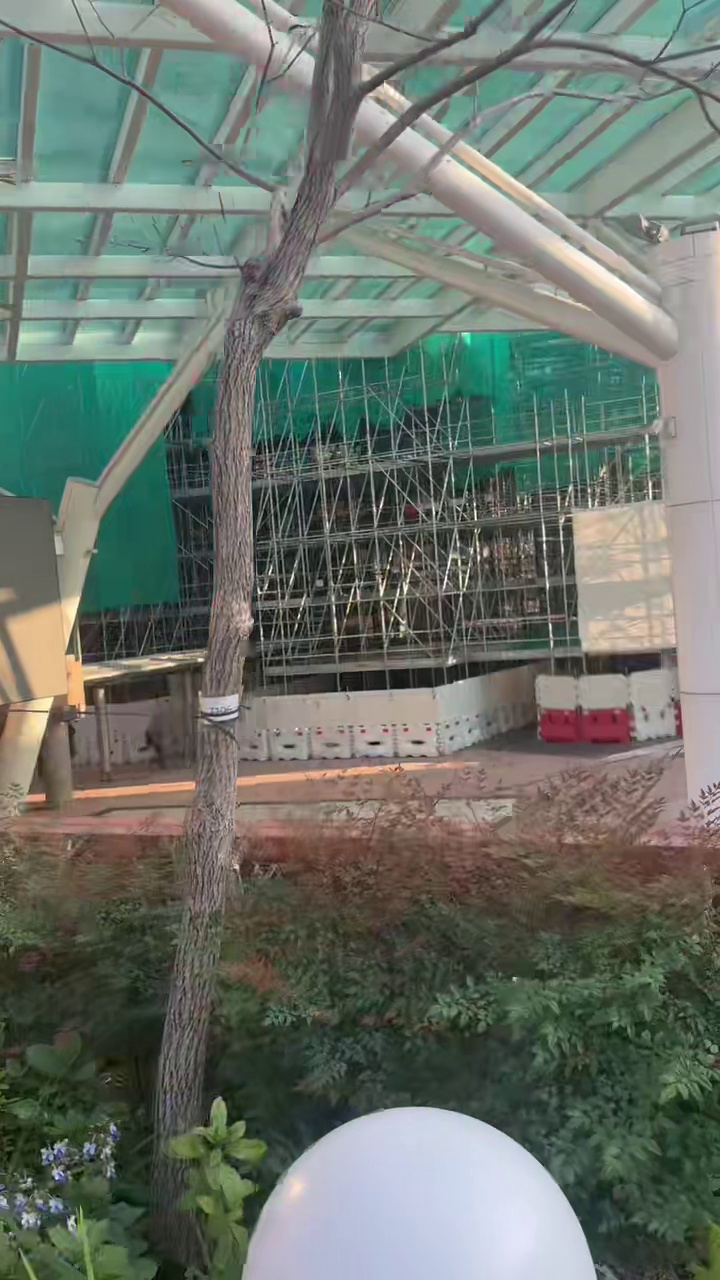Tabebuia chrysantha: (156, 0, 572, 1138), (453, 181, 675, 357)
